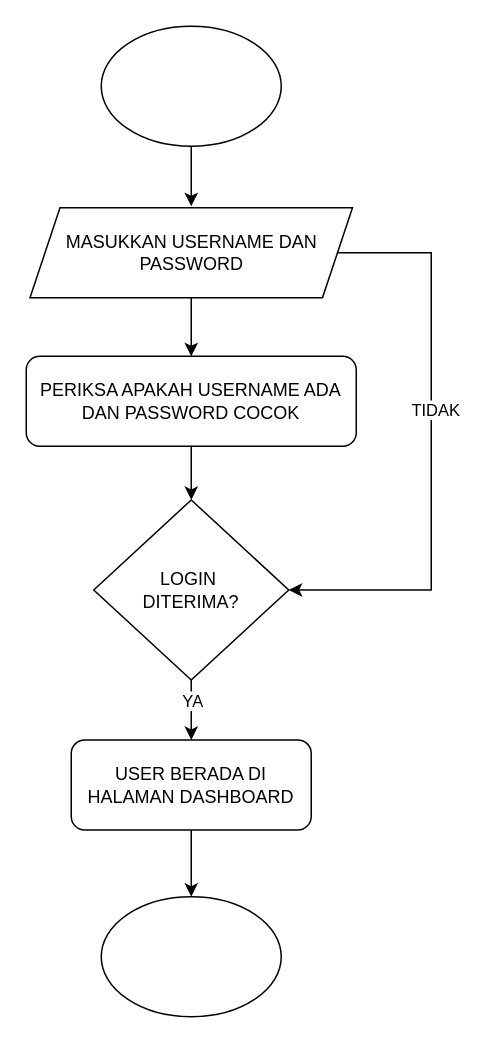
The diagram is 485 pixels wide and 1044 high, and some of its shapes have lost their labels. The centre of each missing label's shape, as x and y in pixels:
LOGIN SELESAI: (x=190, y=956)
MULAI LOGIN: (x=190, y=85)
